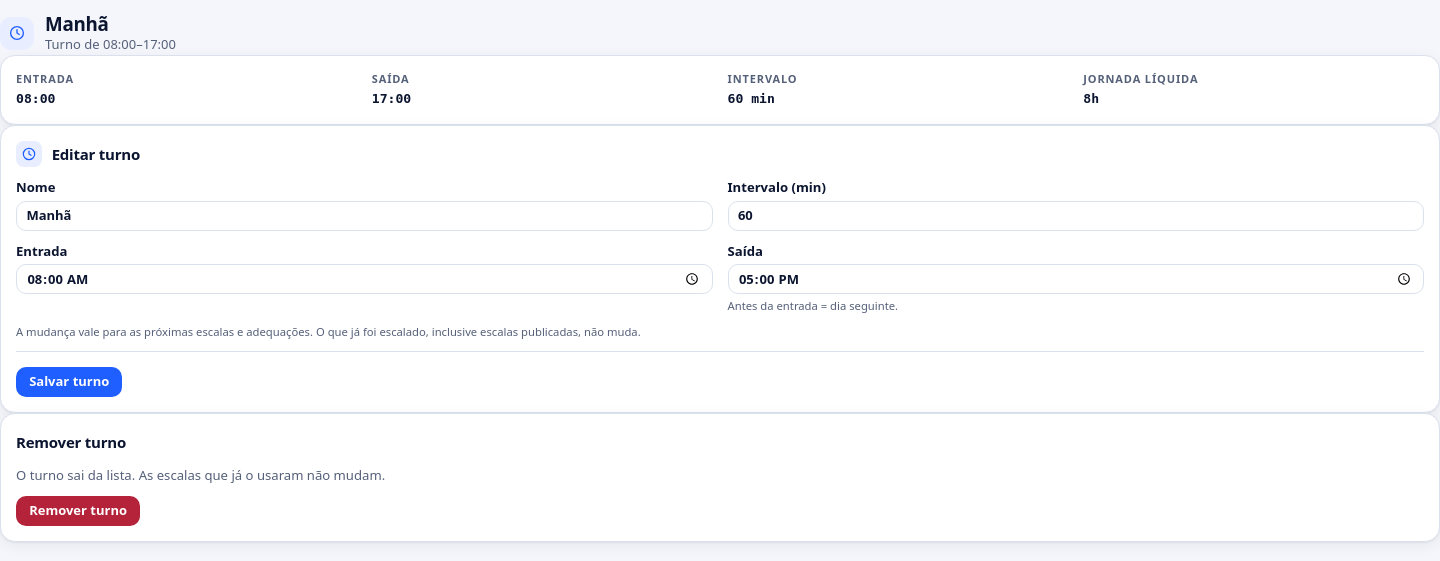
Test case: tela do turno › o formulário abre com os valores atuais e salva
Expected: the time field labelled "Saída Antes da entrada = dia seguinte." holds "17:00", [728,264,1424,294]
Expected: the number field labelled "Intervalo (min)" holds "60", [728,201,1424,231]
Step 1. Replace the text in the time field labelled "Entrada" with "07:30" → (364, 279), box [16,264,712,294]
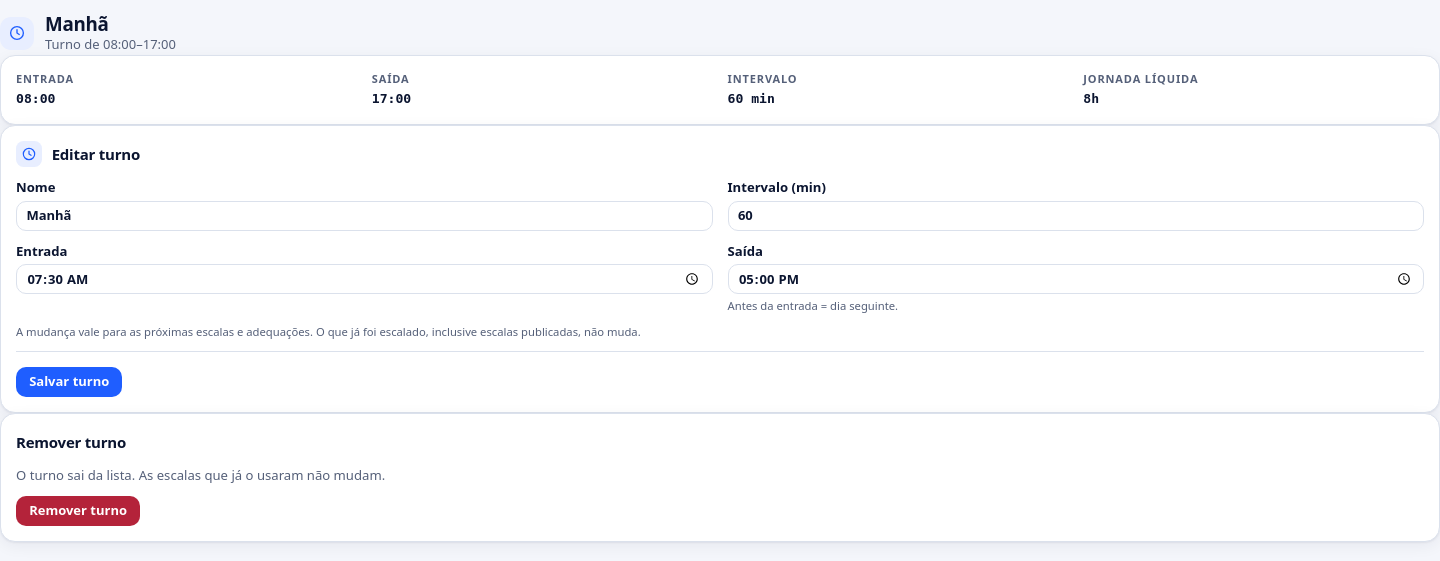
Step 2. Click the button "Salvar turno" → (69, 382), box [16,367,122,397]
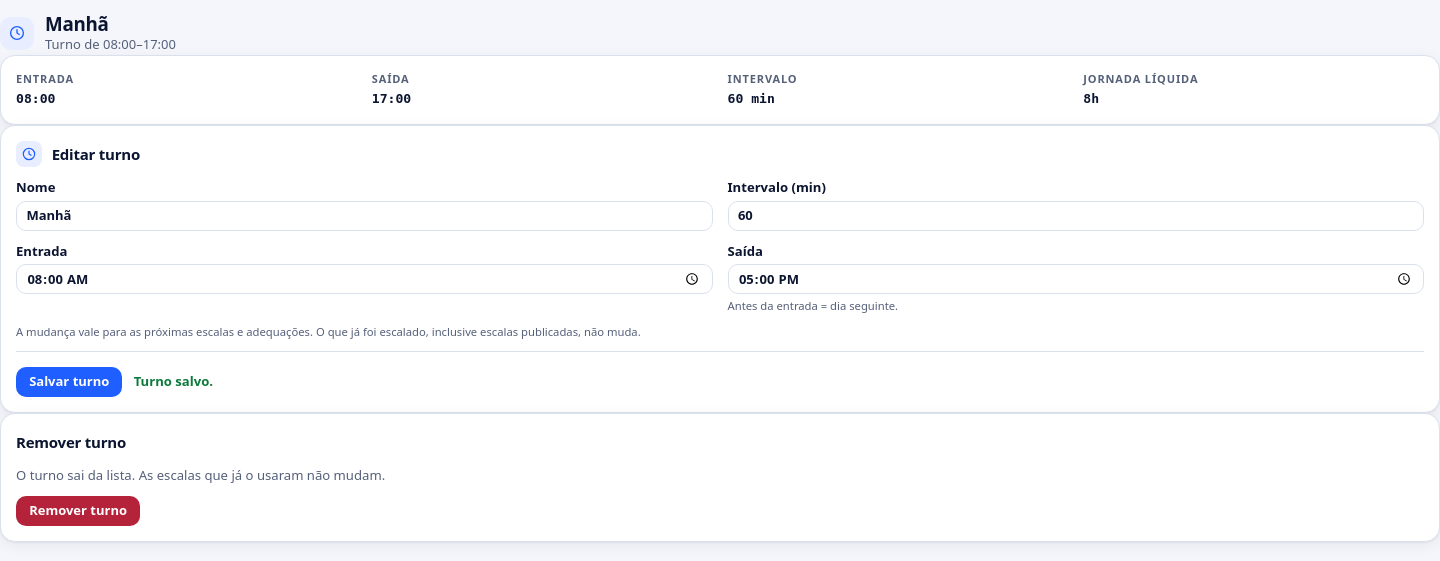
Result: the text "Turno salvo." is shown at [134,372,213,391]
